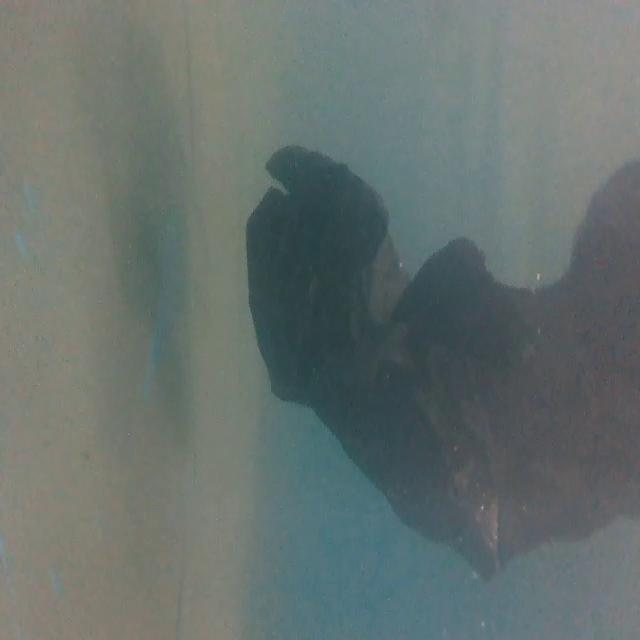plastic bags: (243, 145, 639, 583)
